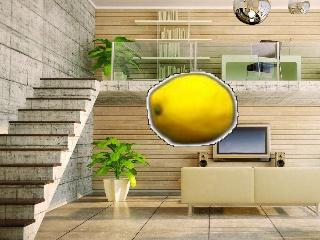lemon: (149, 74, 234, 145)
